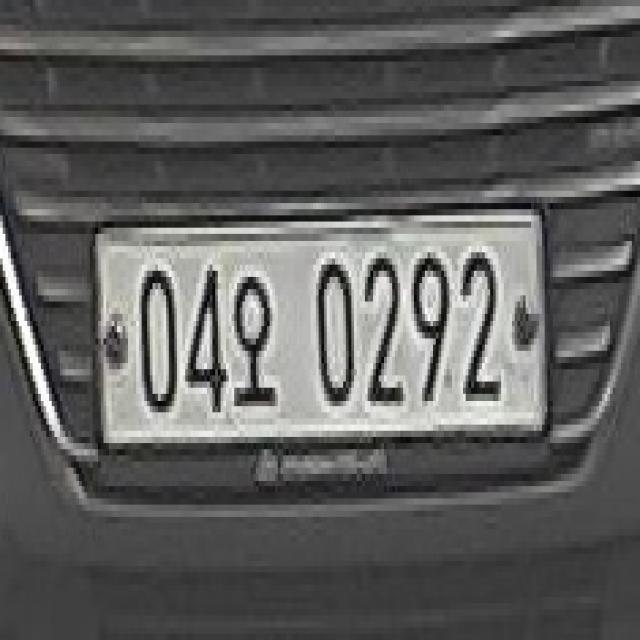0: (310, 241, 358, 418), (132, 248, 180, 424)
2: (458, 236, 514, 414), (360, 250, 410, 414)
4: (186, 258, 226, 422)
9: (412, 238, 456, 422)
license_plate: (88, 188, 570, 486)
o: (232, 260, 281, 434)
